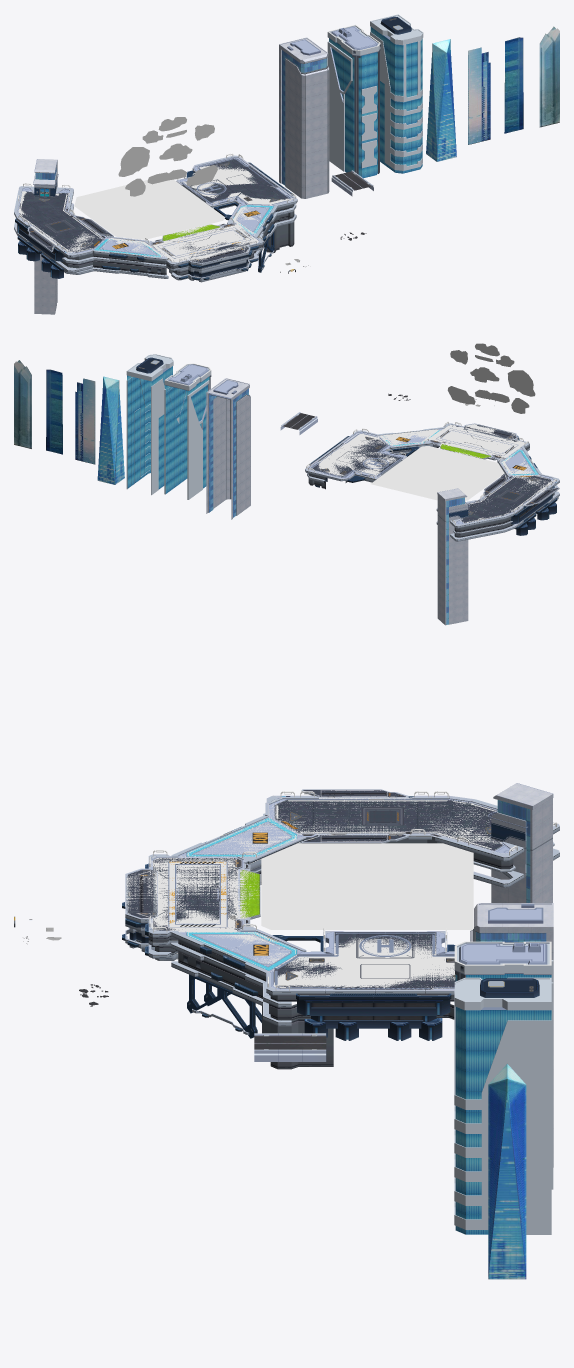
The model's file is real2.fbx.
3 renders of one model, top to bottom at view 1: azimuth 30°, elevation 25°; view 2: azimuth 150°, elevation 25°; view 3: azimuth 270°, elevation 25°, orthographic. The views are drawn at different scales.
Visible parts, largest first — view 1: rb_01_hod_build_02, rb_01_hod_build_03, rb_01_hod_build_04, rb_01_hod_boss_01, rb_01_hod_ground_01, rb_01_hod_floor_02, rb_01_hod_build_05, rb_01_hod_floor_05, rb_01_hod_floor_04, rb_01_hod_build_06, rb_01_hod_build_08, rb_01_hod_build_01 (+13 smaller); view 2: rb_01_hod_build_02, rb_01_hod_build_03, rb_01_hod_build_04, rb_01_hod_ground_01, rb_01_hod_boss_01, rb_01_hod_build_01, rb_01_hod_floor_02, rb_01_hod_build_05, rb_01_hod_floor_05, rb_01_hod_build_06, rb_01_hod_build_08, rb_01_hod_build_07 (+8 smaller); view 3: rb_01_hod_build_04, rb_01_hod_boss_01, rb_01_hod_ground_01, rb_01_hod_floor_02, rb_01_hod_build_05, rb_01_hod_floor_04, rb_01_hod_build_01, rb_01_hod_floor_05, rb_01_hod_floor_06, rb_01_hod_backfloor_05, rb_01_hod_build_03, rb_01_hod_ob_01 (+9 smaller).
Boxes of the visible parts, box(x1,y1,x2,y2) form: rb_01_hod_build_02: box(279, 37, 329, 198); rb_01_hod_build_03: box(327, 24, 380, 178); rb_01_hod_build_04: box(370, 14, 423, 173); rb_01_hod_boss_01: box(74, 179, 225, 239); rb_01_hod_ground_01: box(18, 165, 291, 262); rb_01_hod_floor_02: box(14, 186, 106, 261); rb_01_hod_build_05: box(426, 39, 456, 161); rb_01_hod_floor_05: box(176, 155, 297, 220); rb_01_hod_floor_04: box(150, 223, 263, 270); rb_01_hod_build_06: box(468, 47, 490, 144); rb_01_hod_build_08: box(539, 26, 559, 127); rb_01_hod_build_01: box(33, 159, 58, 314); rb_01_hod_build_02: box(206, 378, 250, 519); rb_01_hod_build_03: box(164, 363, 211, 499); rb_01_hod_build_04: box(126, 354, 173, 495); rb_01_hod_ground_01: box(313, 424, 552, 522); rb_01_hod_boss_01: box(371, 446, 504, 500); rb_01_hod_build_01: box(437, 488, 469, 625); rb_01_hod_floor_02: box(436, 474, 559, 533); rb_01_hod_build_05: box(97, 376, 124, 484); rb_01_hod_floor_05: box(305, 430, 418, 482); rb_01_hod_build_06: box(75, 378, 95, 464); rb_01_hod_build_08: box(14, 360, 31, 448); rb_01_hod_build_07: box(46, 369, 62, 454); rb_01_hod_build_04: box(454, 977, 551, 1234); rb_01_hod_boss_01: box(261, 843, 473, 929); rb_01_hod_ground_01: box(126, 796, 502, 989); rb_01_hod_floor_02: box(265, 795, 559, 872); rb_01_hod_build_05: box(488, 1063, 526, 1279); rb_01_hod_floor_04: box(125, 854, 260, 945); rb_01_hod_build_01: box(488, 783, 553, 902); rb_01_hod_floor_05: box(265, 931, 455, 1001); rb_01_hod_floor_06: box(171, 925, 306, 1007); rb_01_hod_backfloor_05: box(262, 994, 454, 1069); rb_01_hod_build_03: box(454, 941, 553, 1189); rb_01_hod_ob_01: box(296, 993, 451, 1015).
Bounding box in the file's own units: 121 × 49.42 × 58.29.
